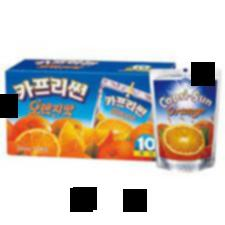cafrisun: (147, 67, 222, 175)
